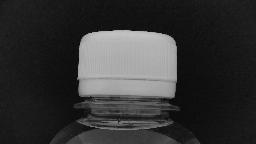Good Cap: (69, 26, 183, 114)
